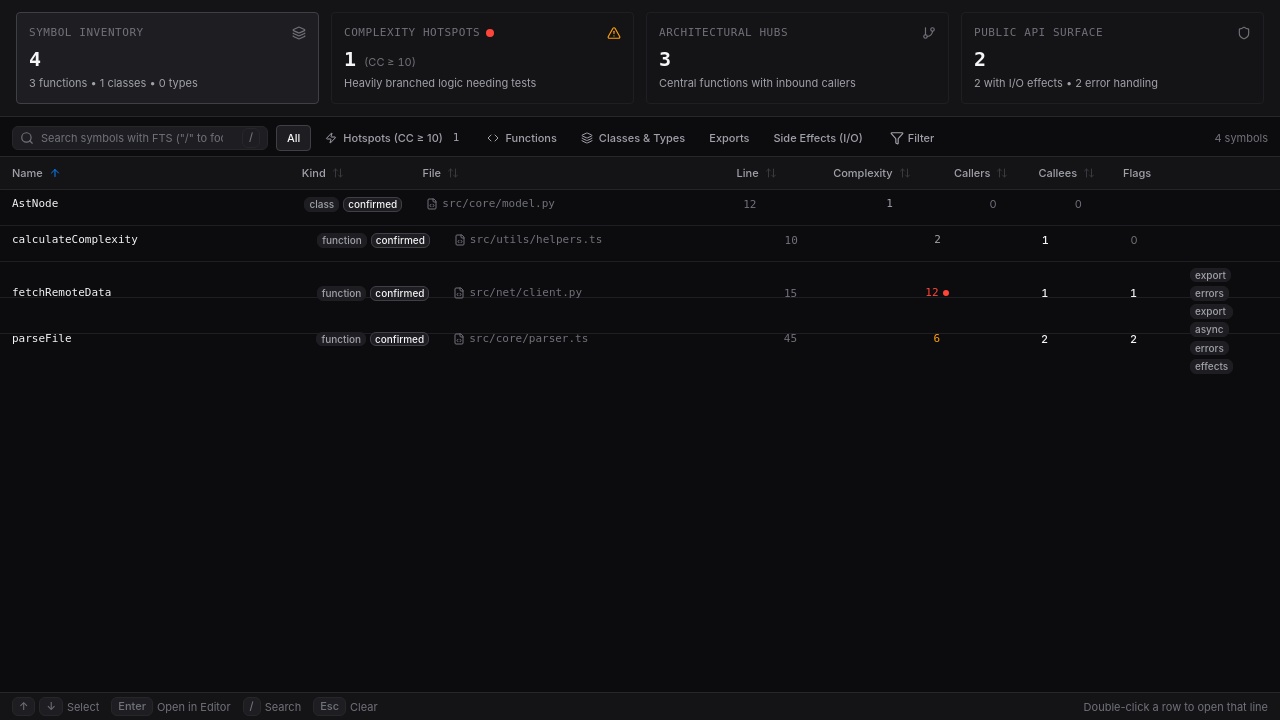
Test: CodeIntelligenceView Component › filters immediately via instant perspective pills (Hotspots, Functions, Classes)
// Click Hotspots (CC ≥ 10) pill
Click the button "Hotspots (CC ≥ 10) 1".
click(394, 138)  # box top-left (315, 126), bottom-right (473, 150)
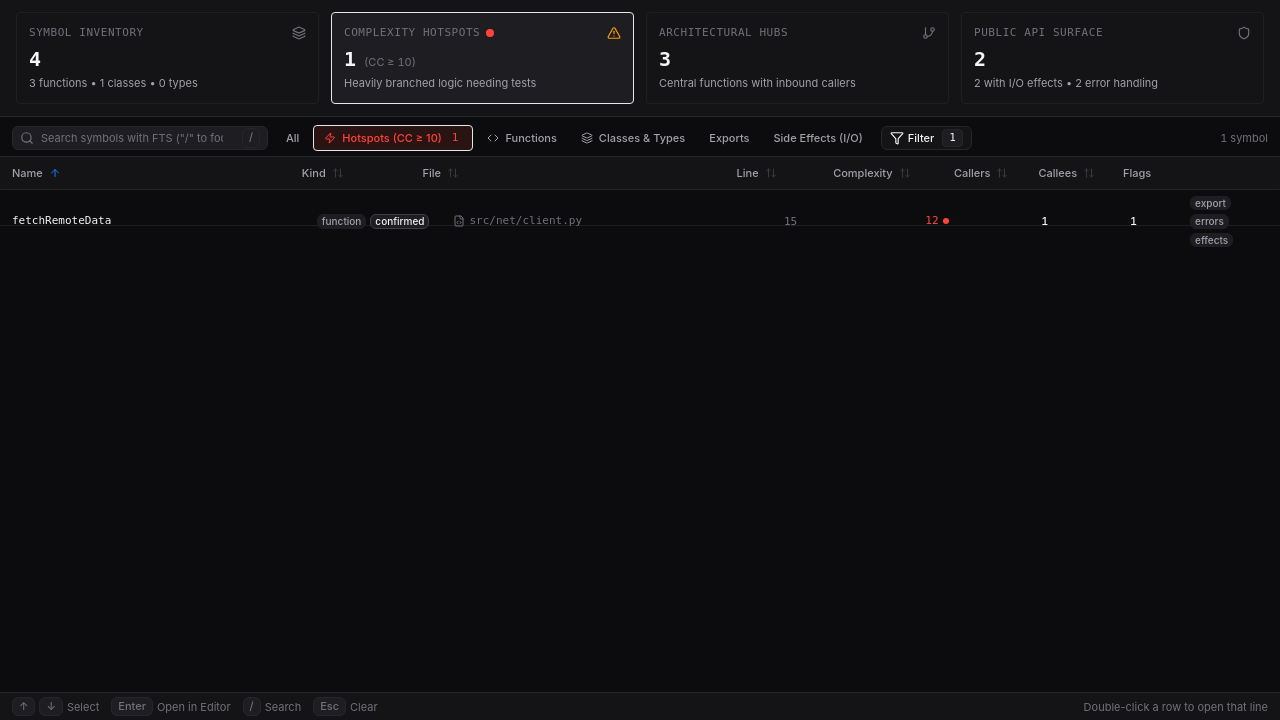
Check: the text "fetchRemoteData" is shown, box top-left (12, 213), bottom-right (111, 229)
Check: the text "parseFile" is gone
Check: the text "AstNode" is gone
// Click Functions pill
Click the button "Functions".
click(522, 138)  # box top-left (478, 126), bottom-right (567, 150)
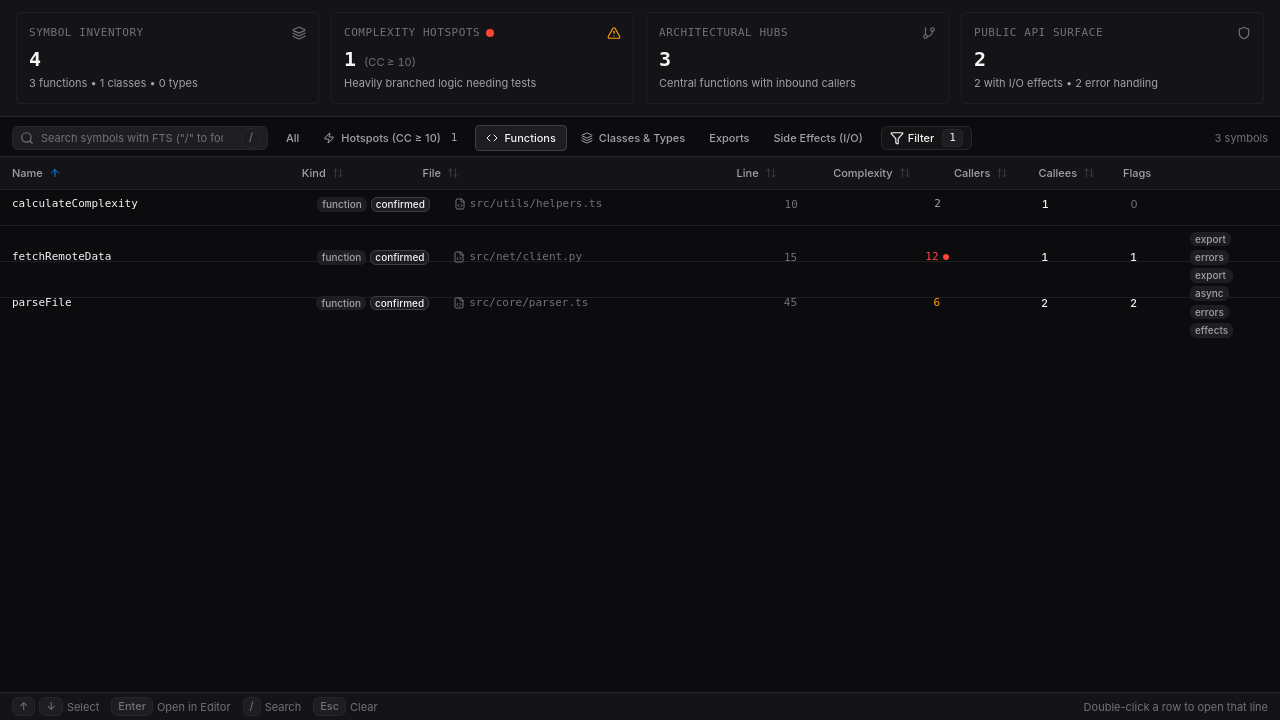
Check: the text "parseFile" is shown, box top-left (12, 294), bottom-right (72, 310)
Check: the text "calculateComplexity" is shown, box top-left (12, 196), bottom-right (138, 212)
Check: the text with test id "result-count" reads "3 symbols", box top-left (1214, 131), bottom-right (1268, 145)
// Click All pill to reset
Click the button "All".
click(293, 138)  # box top-left (276, 126), bottom-right (309, 150)
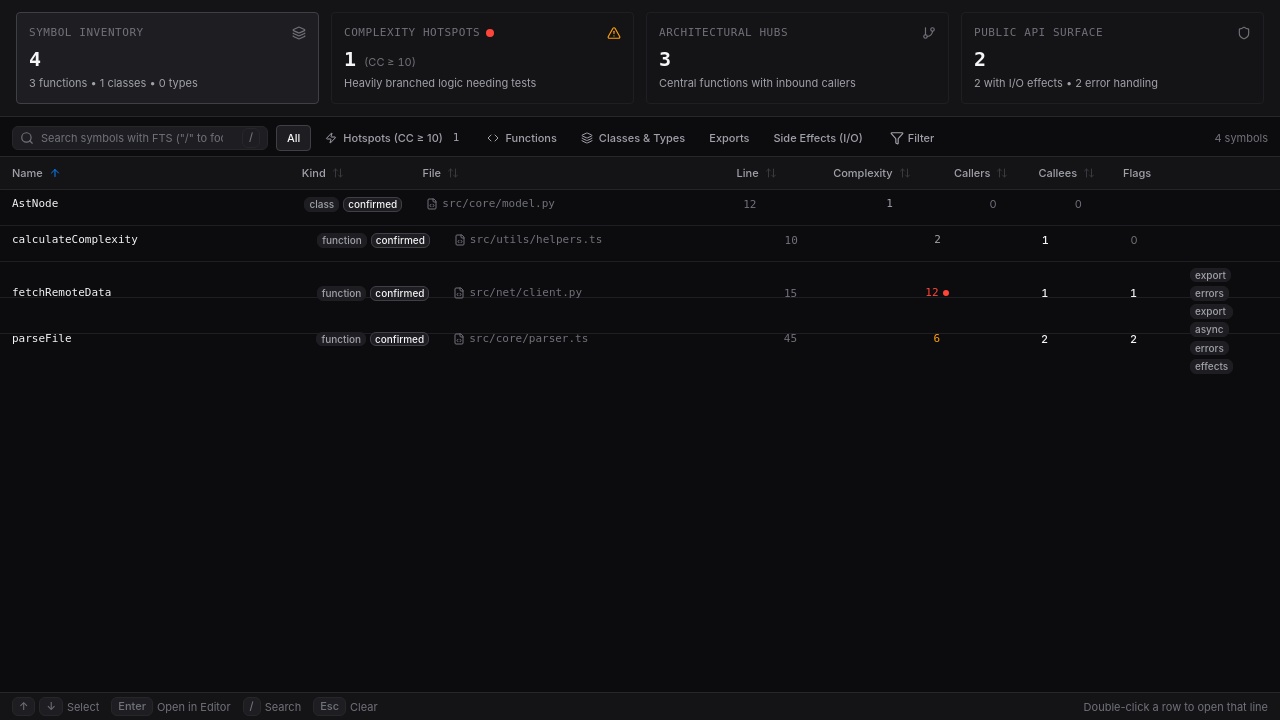
Check: the text with test id "result-count" reads "4 symbols", box top-left (1214, 131), bottom-right (1268, 145)
